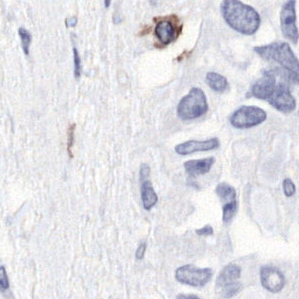Lymphocyte: (151, 14, 184, 48)
